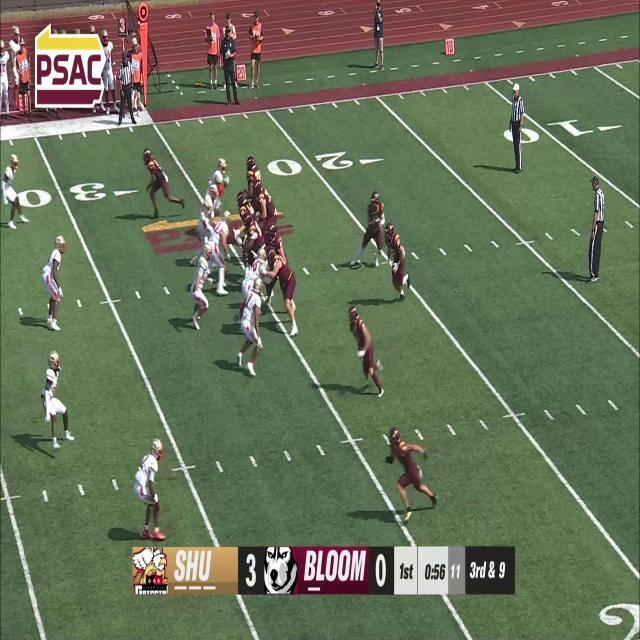football: (373, 216, 381, 233)
